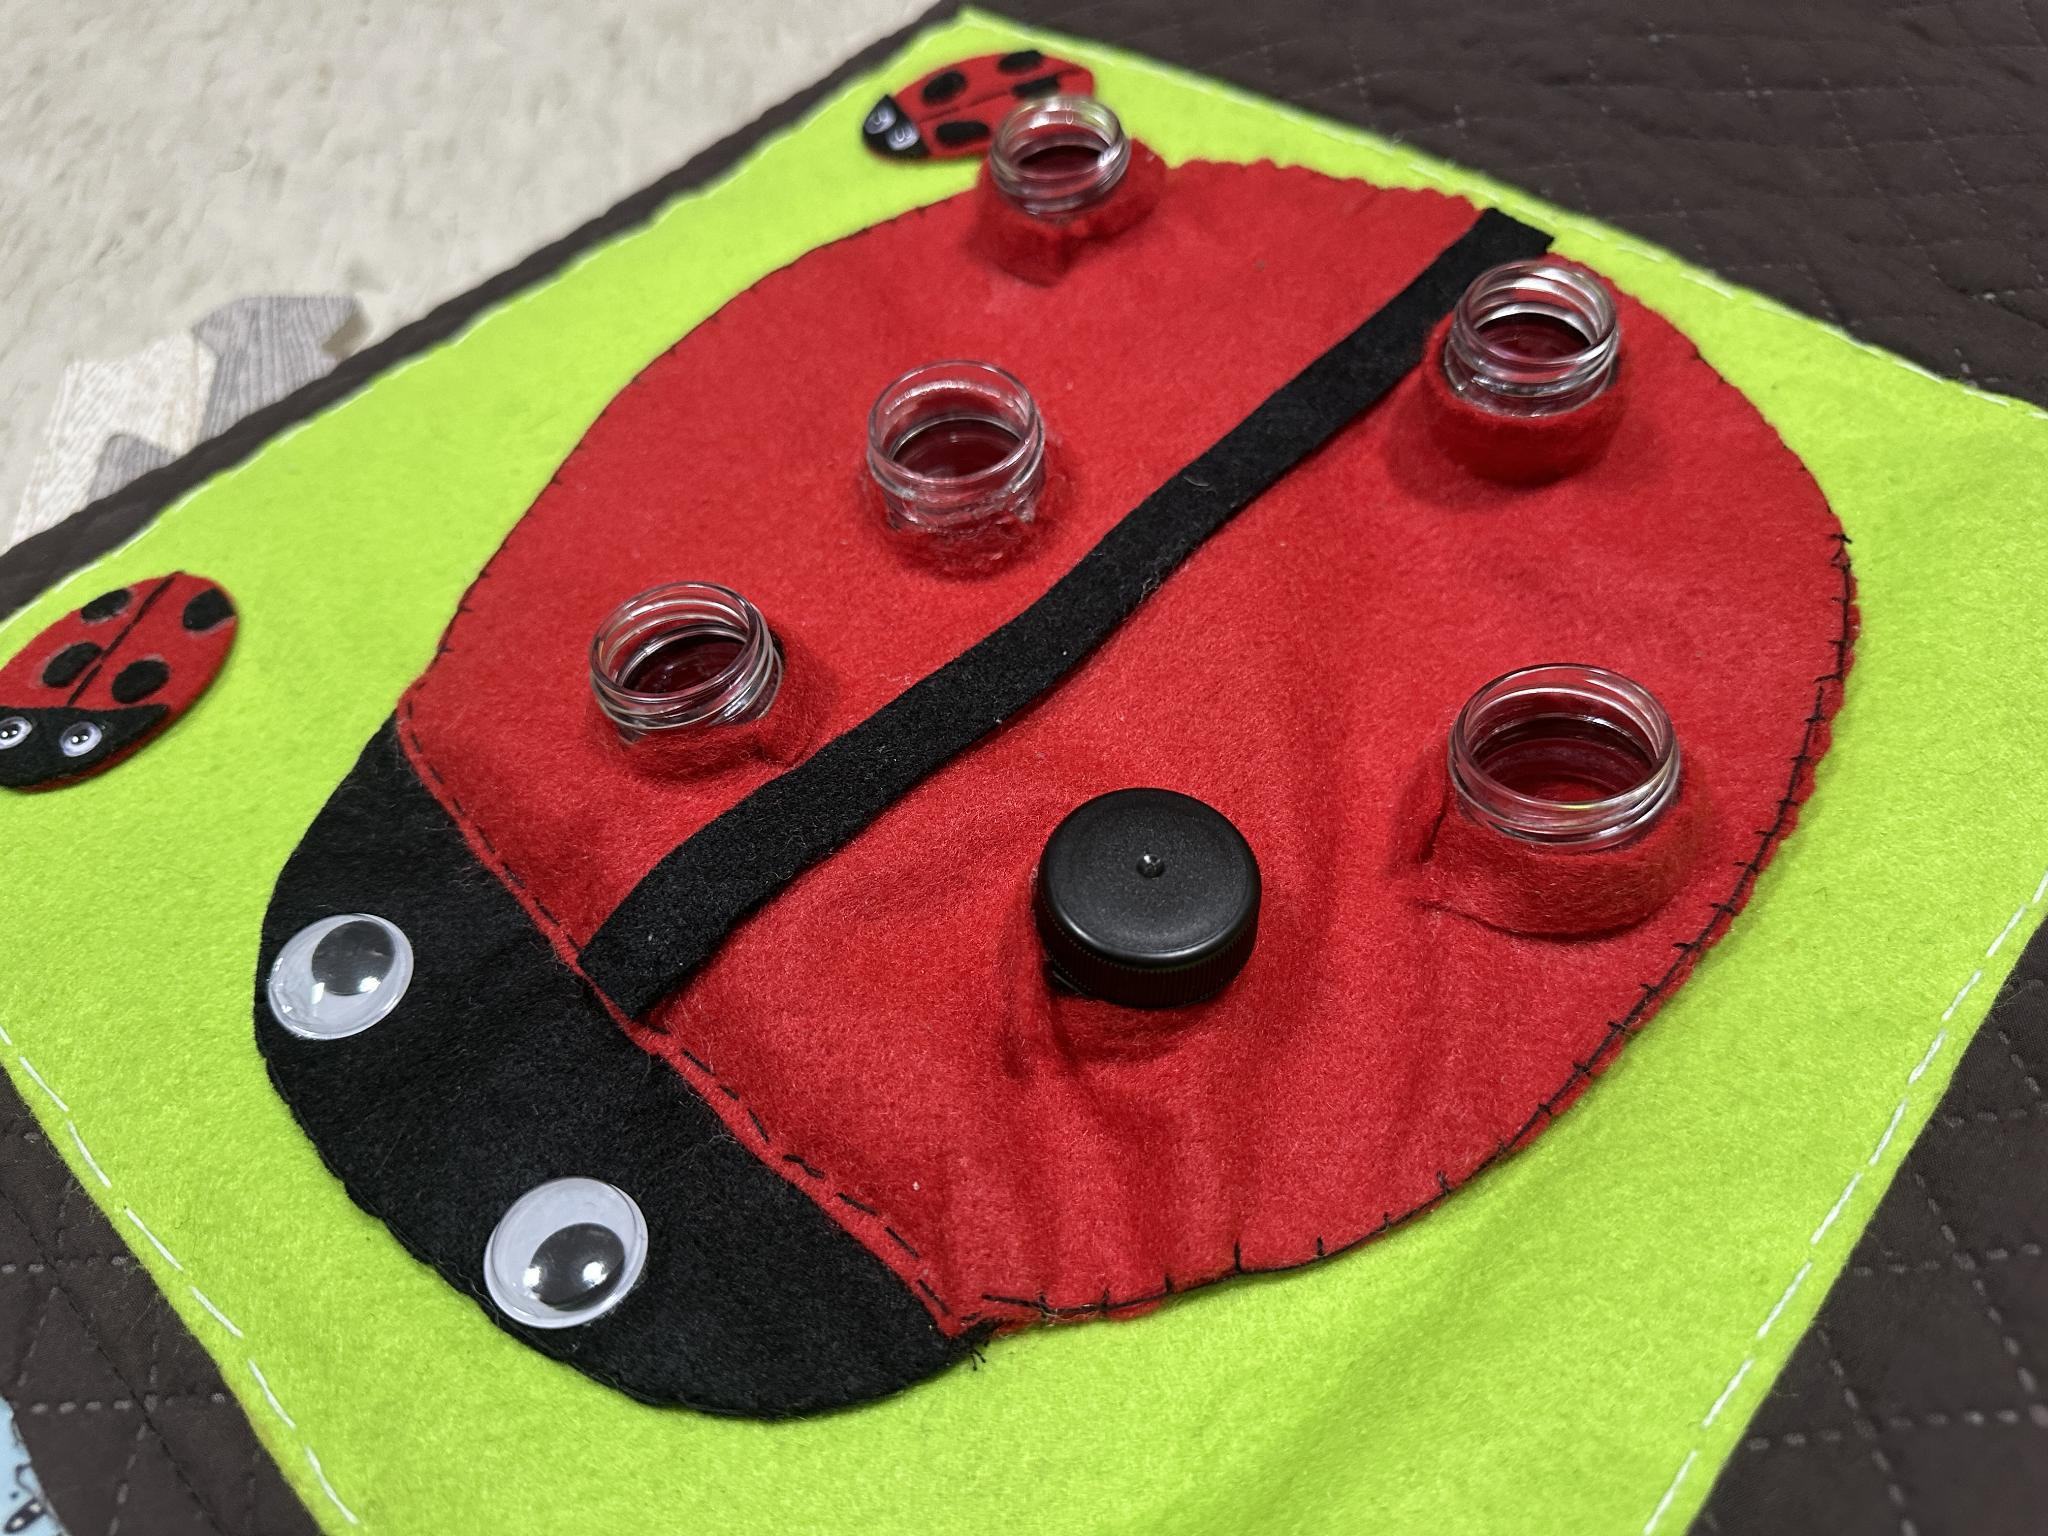cap_ok: (989, 736, 1303, 1075)
